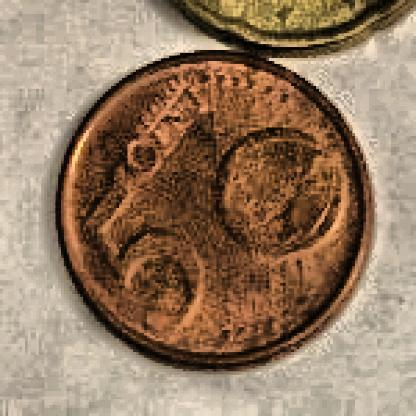coin: (53, 47, 380, 373)
